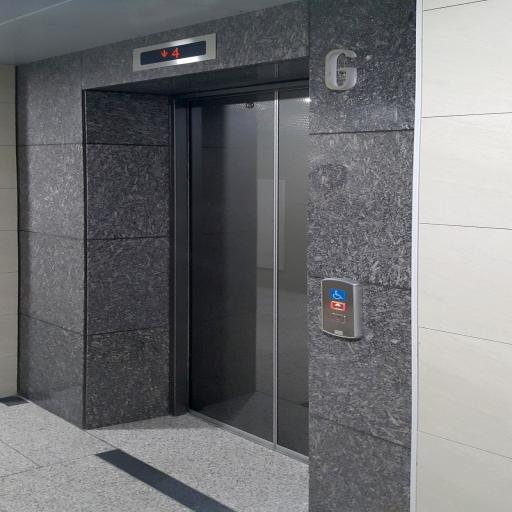closet: (82, 62, 363, 491)
